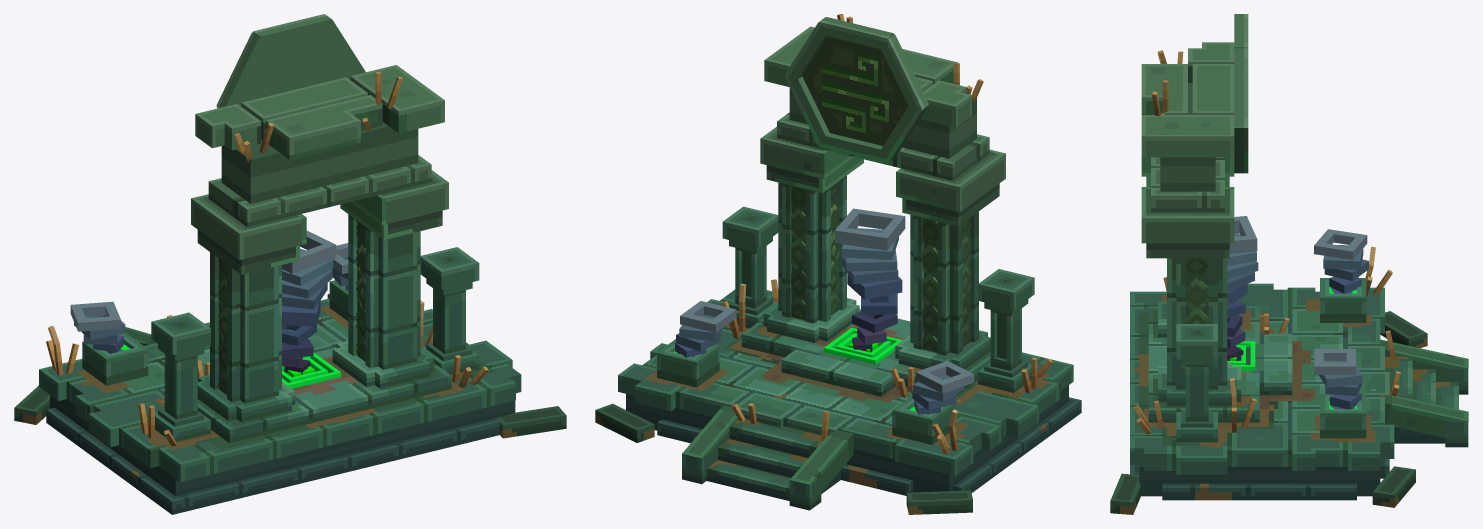
Rendered from item_5x5x5_windalter.gltf.
3 views of the same model, side by side, from view 1: azimuth 30°, elevation 25°; view 2: azimuth 150°, elevation 25°; view 3: azimuth 270°, elevation 25° (orthographic). The views are drawn at different scales.
Visible parts, largest first — view 1: wind01-Local, Dimg-Local, l1-Local, l2$$(1)-Local, l3$$(1)-Local, c2-Local, 1rr$$(1)-Local, x6-Local, L9-Local, x5-Local, c3-Local, L5-Local (+2 smaller); view 2: wind01-Local, Dimg-Local, logo-Local, ff1-Local, l3$$(1)-Local, l1-Local, L9-Local, l2$$(1)-Local, x4-Local, x3-Local, c3-Local, c1-Local (+10 smaller); view 3: wind01-Local, Dimg-Local, ff1-Local, x1-Local, c1-Local, 1rr$$(1)-Local, l2$$(1)-Local, 1rr-Local, c2-Local, c3-Local, L9-Local, l3$$(1)-Local (+4 smaller).
Boxes of the visible parts, left/top/right/bottom form: wind01-Local: left=39, top=214, right=521, bottom=514; Dimg-Local: left=191, top=65, right=448, bottom=274; l1-Local: left=253, top=14, right=331, bottom=97; l2$$(1)-Local: left=216, top=14, right=365, bottom=108; l3$$(1)-Local: left=216, top=32, right=357, bottom=107; c2-Local: left=497, top=406, right=566, bottom=438; 1rr$$(1)-Local: left=70, top=301, right=120, bottom=331; x6-Local: left=356, top=220, right=365, bottom=361; L9-Local: left=282, top=230, right=336, bottom=273; x5-Local: left=218, top=259, right=226, bottom=394; c3-Local: left=14, top=385, right=49, bottom=424; L5-Local: left=282, top=300, right=320, bottom=326; wind01-Local: left=618, top=175, right=1081, bottom=510; Dimg-Local: left=760, top=26, right=1005, bottom=226; logo-Local: left=802, top=36, right=908, bottom=145; ff1-Local: left=682, top=405, right=853, bottom=502; l3$$(1)-Local: left=784, top=34, right=928, bottom=146; l1-Local: left=819, top=17, right=893, bottom=163; L9-Local: left=835, top=208, right=905, bottom=250; l2$$(1)-Local: left=784, top=17, right=928, bottom=163; x4-Local: left=922, top=218, right=937, bottom=352; x3-Local: left=791, top=185, right=805, bottom=320; c3-Local: left=906, top=490, right=972, bottom=514; c1-Local: left=595, top=403, right=654, bottom=442; wind01-Local: left=1130, top=258, right=1468, bottom=500; Dimg-Local: left=1141, top=42, right=1234, bottom=258; ff1-Local: left=1380, top=339, right=1468, bottom=441; x1-Local: left=1185, top=258, right=1208, bottom=323; c1-Local: left=1372, top=466, right=1415, bottom=507; 1rr$$(1)-Local: left=1314, top=229, right=1367, bottom=259; l2$$(1)-Local: left=1234, top=48, right=1248, bottom=126; 1rr-Local: left=1314, top=349, right=1355, bottom=374; c2-Local: left=1110, top=473, right=1140, bottom=514; c3-Local: left=1380, top=311, right=1427, bottom=347; L9-Local: left=1229, top=216, right=1257, bottom=253; l3$$(1)-Local: left=1234, top=127, right=1248, bottom=173.
Bounding box in the file's own units: 97.71 × 92 × 77.3.
Materials: 61 (61 with a texture image).
